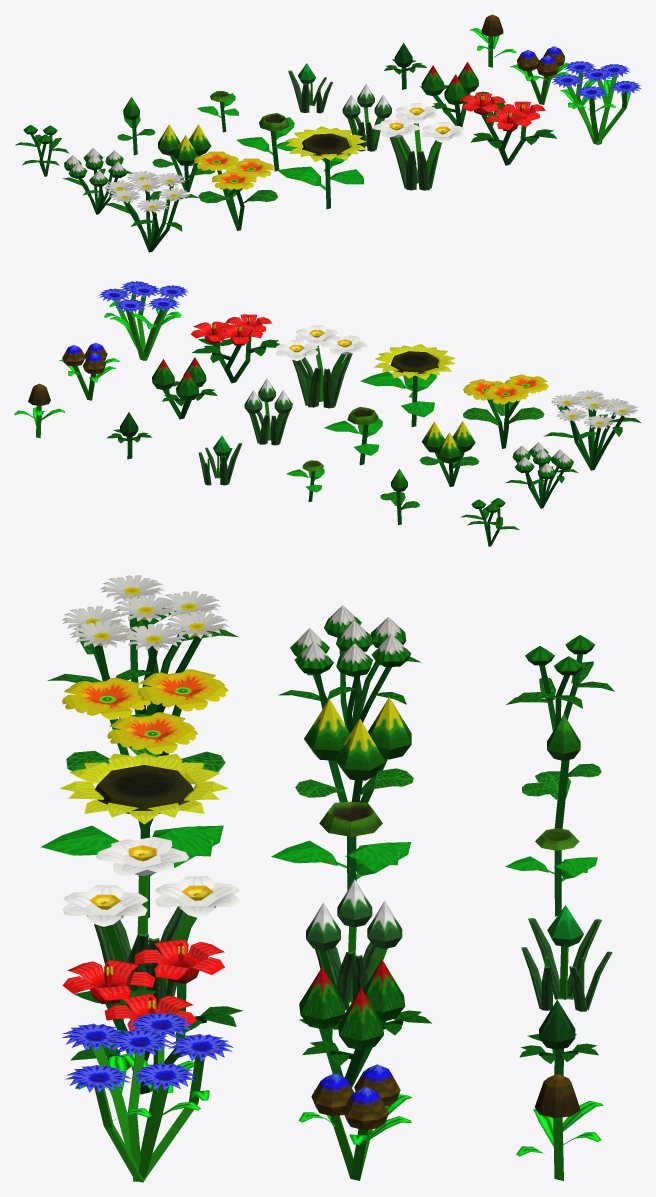
File: FlowersLvl2.fbx
The picture shows the model from 3 angles, top to bottom: view 1: azimuth 30°, elevation 25°; view 2: azimuth 150°, elevation 25°; view 3: azimuth 270°, elevation 25°; orthographic projection. The views are drawn at different scales.
Visible parts, largest first — view 1: Narcissus3, Cornflower3, Chamomile3, Sunflower3, Primrose3, Hibiscus3, Chamomile2, Primrose2, Hibiscus2, Narcissus2, Cornflower2, Sunflower2 (+6 smaller); view 2: Narcissus3, Sunflower3, Chamomile3, Cornflower3, Primrose3, Hibiscus3, Chamomile2, Primrose2, Narcissus2, Hibiscus2, Cornflower2, Sunflower2 (+6 smaller); view 3: Cornflower3, Narcissus3, Sunflower3, Chamomile3, Primrose3, Hibiscus3, Chamomile2, Hibiscus2, Primrose2, Narcissus2, Cornflower2, Narcissus1 (+6 smaller).
Boxes of the visible parts, <box> form: Narcissus3: <box>373,103,464,190</box>; Cornflower3: <box>552,61,641,144</box>; Chamomile3: <box>104,171,199,252</box>; Sunflower3: <box>277,126,366,209</box>; Primrose3: <box>194,151,277,230</box>; Hibiscus3: <box>459,93,556,165</box>; Chamomile2: <box>62,147,131,214</box>; Primrose2: <box>152,124,214,191</box>; Hibiscus2: <box>419,62,491,126</box>; Narcissus2: <box>342,84,391,151</box>; Cornflower2: <box>510,46,569,104</box>; Sunflower2: <box>236,113,300,171</box>; Narcissus3: <box>275,325,368,408</box>; Sunflower3: <box>360,344,455,427</box>; Chamomile3: <box>543,390,640,470</box>; Cornflower3: <box>98,281,188,360</box>; Primrose3: <box>463,374,548,448</box>; Hibiscus3: <box>191,314,279,383</box>; Chamomile2: <box>506,442,577,508</box>; Primrose2: <box>419,421,479,486</box>; Narcissus2: <box>244,378,293,445</box>; Hibiscus2: <box>152,357,217,419</box>; Cornflower2: <box>59,342,119,400</box>; Sunflower2: <box>324,407,382,465</box>; Cornflower3: <box>62,1012,233,1182</box>; Narcissus3: <box>62,836,240,1011</box>; Sunflower3: <box>41,752,228,917</box>; Chamomile3: <box>47,575,238,717</box>; Primrose3: <box>62,669,228,829</box>; Hibiscus3: <box>62,939,242,1094</box>; Chamomile2: <box>278,605,421,733</box>; Hibiscus2: <box>299,959,431,1087</box>; Primrose2: <box>295,697,413,802</box>; Narcissus2: <box>306,879,402,1010</box>; Cornflower2: <box>298,1064,411,1180</box>; Narcissus1: <box>521,905,612,1011</box>.
Size of the model in its own units: 587 by 73.94 by 278.
